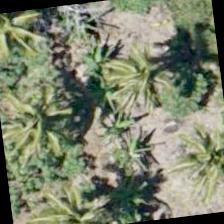Kelapa_Sawit: (93, 12, 193, 112), (0, 73, 76, 172), (24, 164, 123, 223), (169, 103, 223, 201), (0, 9, 41, 66)
